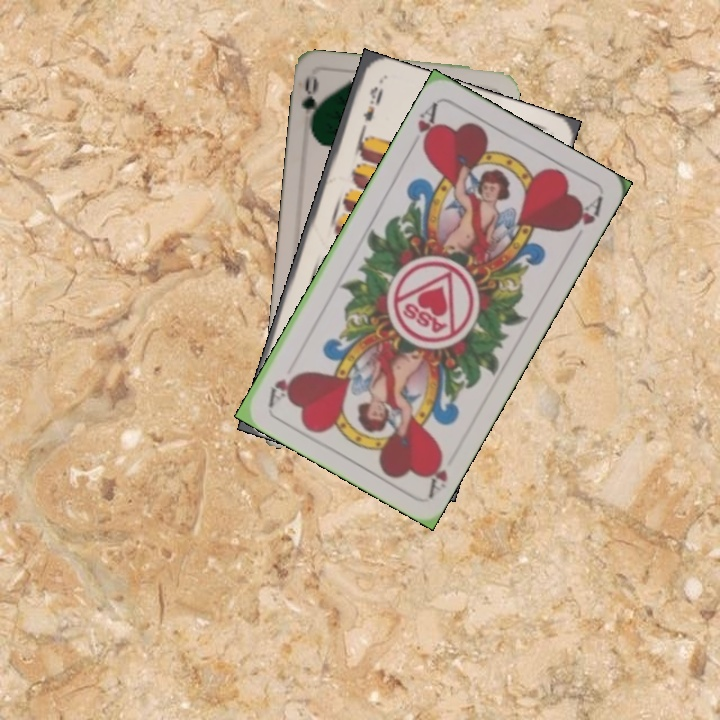E9: (356, 82, 386, 138)
GO: (297, 74, 325, 134)
HA: (406, 98, 441, 154), (423, 447, 451, 499)
